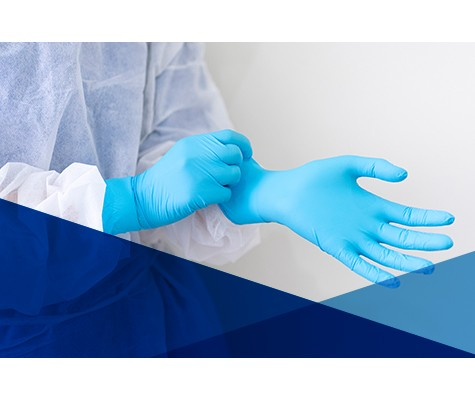Gloves: (230, 150, 457, 294), (97, 127, 258, 238)
